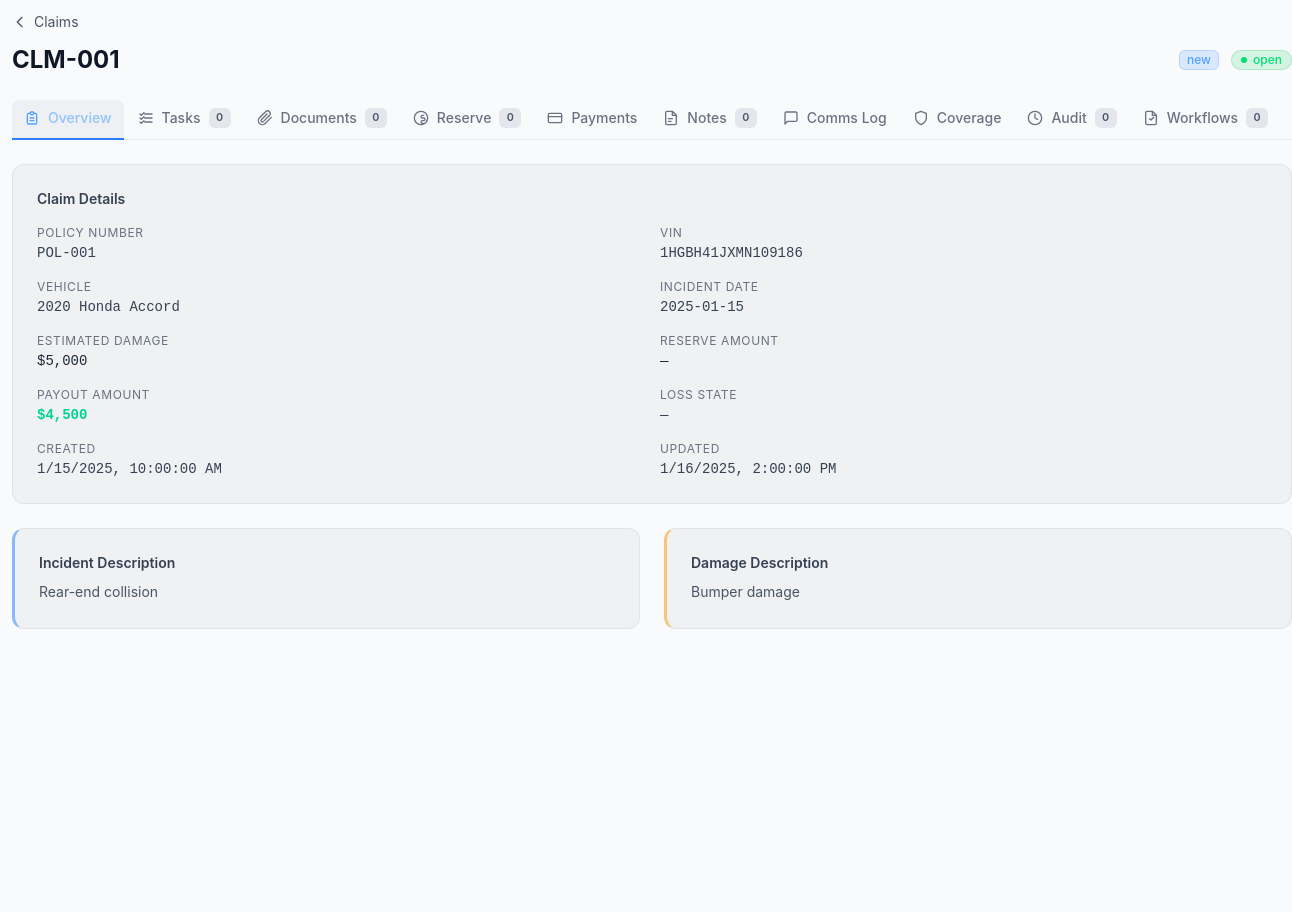
Test: ClaimDetail › switches to payments tab and shows empty state
This screenshot has width=1292, height=912.
Click the tab "Payments" at (592, 120), box left=535, top=100, right=649, bottom=140
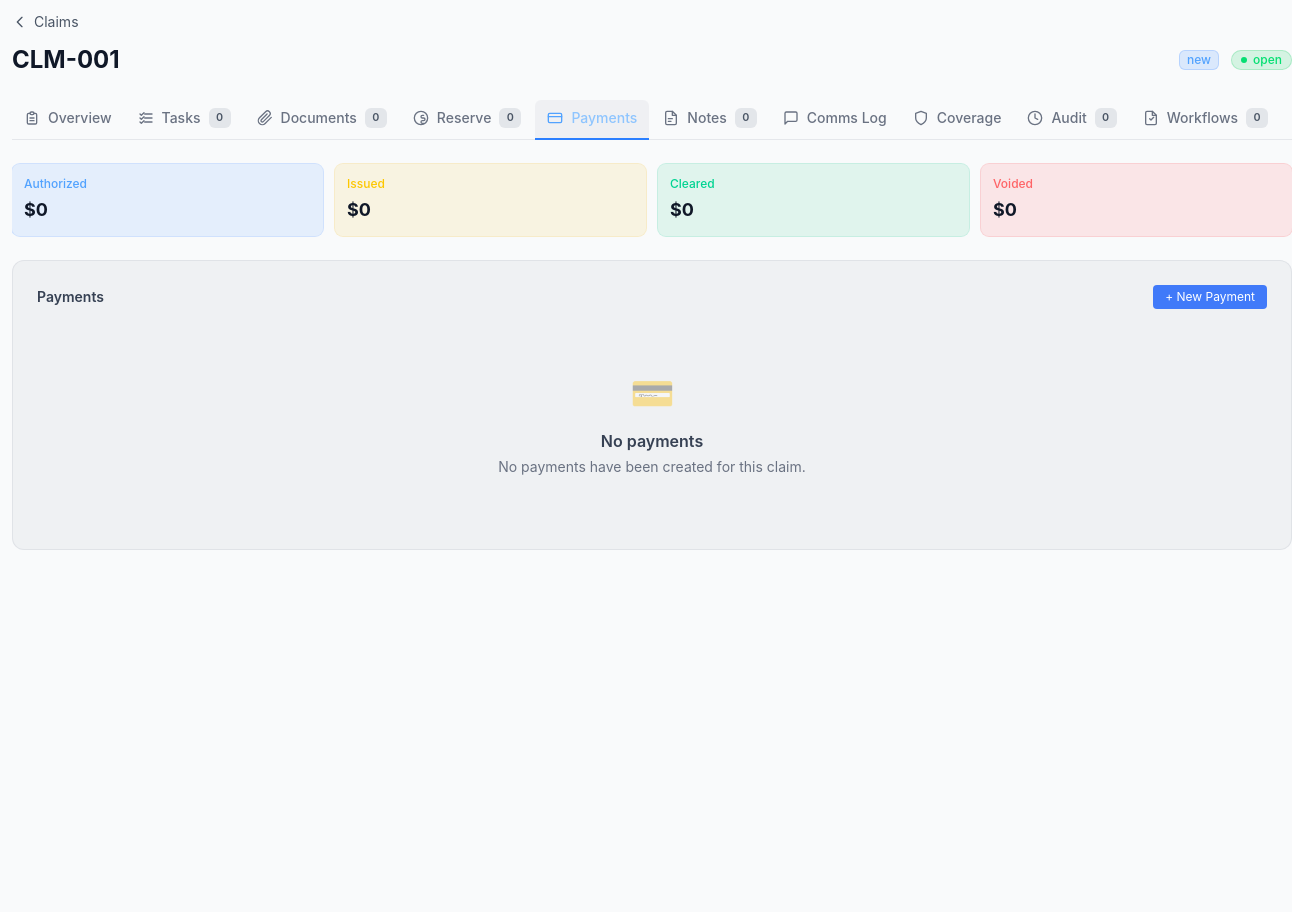
expect the heading "No payments" is shown: met, box left=601, top=429, right=703, bottom=453
